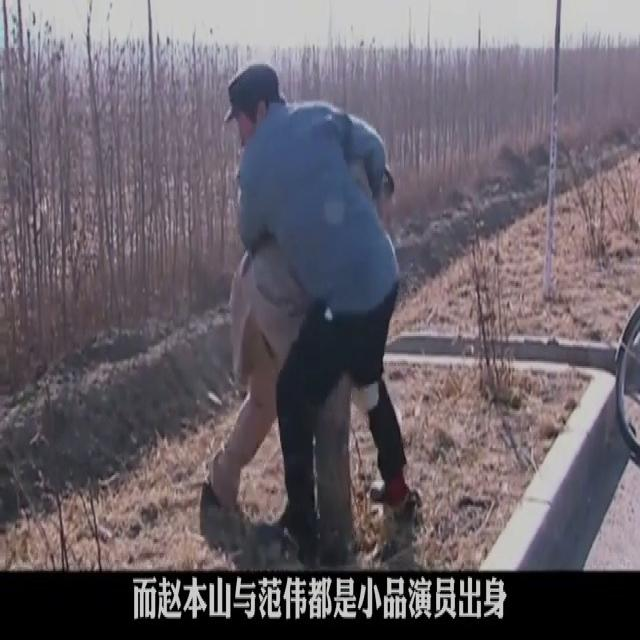fight: (203, 64, 411, 548)
